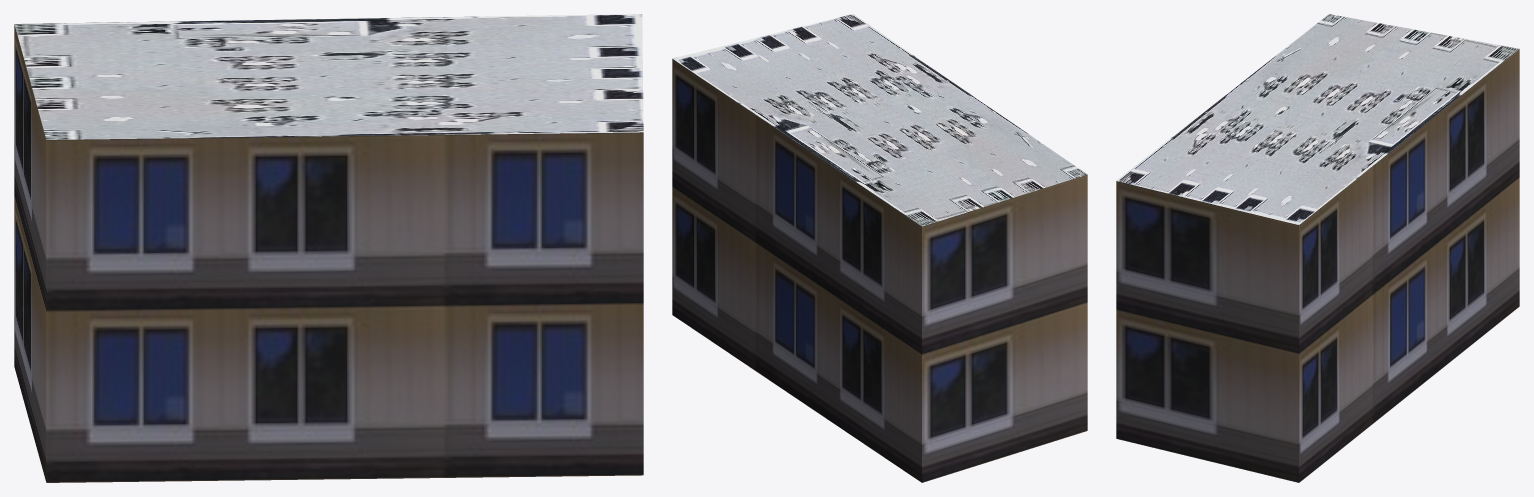
The model's file is ResTex__411.fbx.
The picture shows the model from 3 angles, left to right: view 1: azimuth 30°, elevation 25°; view 2: azimuth 150°, elevation 25°; view 3: azimuth 270°, elevation 25°; orthographic projection. The views are drawn at different scales.
Visible parts, largest first — view 1: CityEngineMaterial_5_m, CityEngineMaterial_m; view 2: CityEngineMaterial_5_m, CityEngineMaterial_m; view 3: CityEngineMaterial_5_m, CityEngineMaterial_m.
Boxes of the visible parts, box(x1,y1,x2,y2) form: CityEngineMaterial_5_m: box(14, 24, 643, 482); CityEngineMaterial_m: box(14, 14, 643, 139); CityEngineMaterial_5_m: box(672, 59, 1087, 482); CityEngineMaterial_m: box(672, 14, 1087, 226); CityEngineMaterial_5_m: box(1116, 49, 1519, 482); CityEngineMaterial_m: box(1117, 14, 1519, 224).
Size of the model in its own units: 10.54 by 6 by 8.51.
2 materials, 2 textured.
